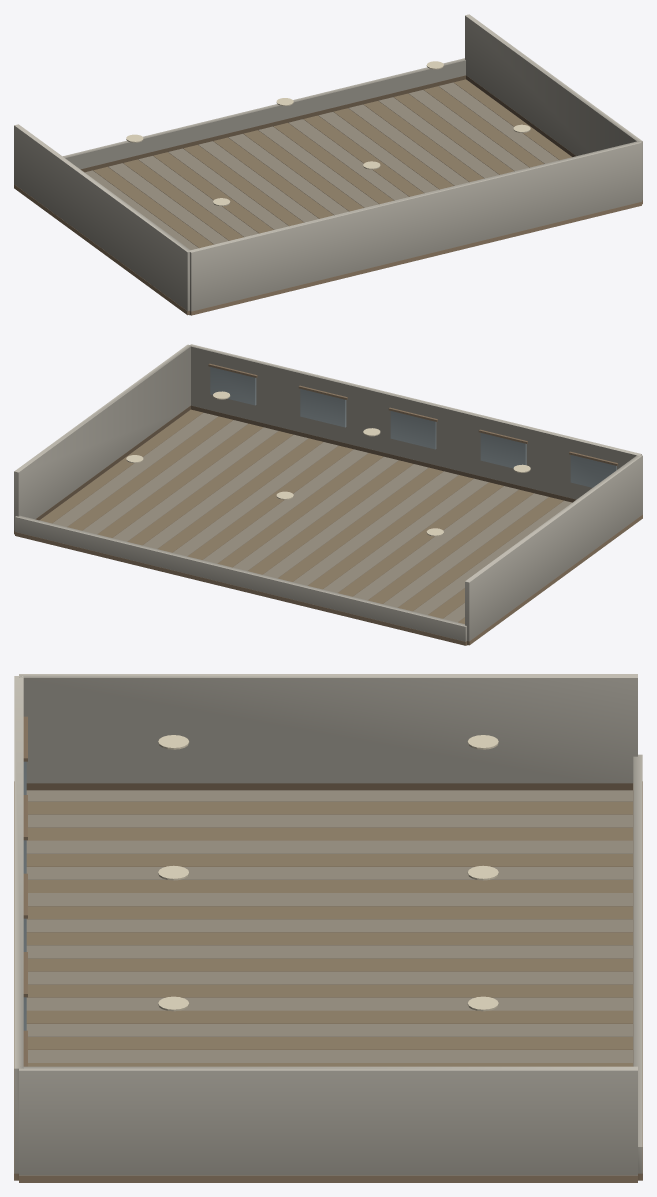
File: mall_floor2.glb
3 views of the same model, one above another, from view 1: azimuth 30°, elevation 25°; view 2: azimuth 150°, elevation 25°; view 3: azimuth 270°, elevation 25° (orthographic). The views are drawn at different scales.
Size of the model in its own units: 30.32 by 4.06 by 20.32.
